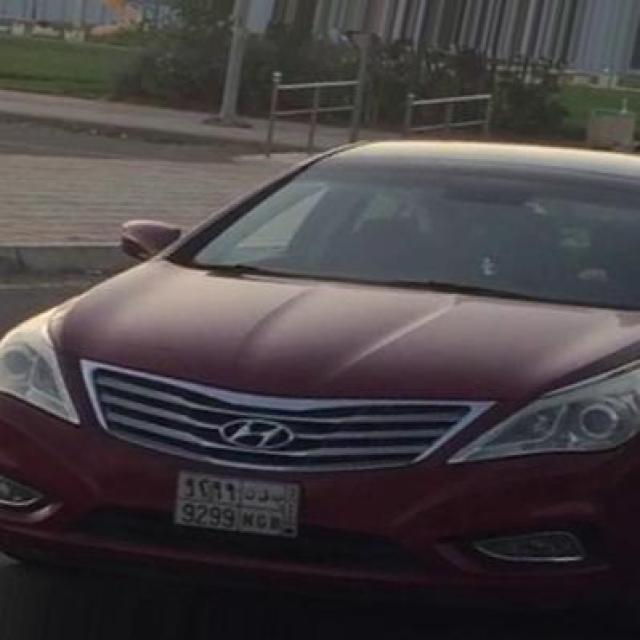Car-plate: (160, 460, 321, 564)
